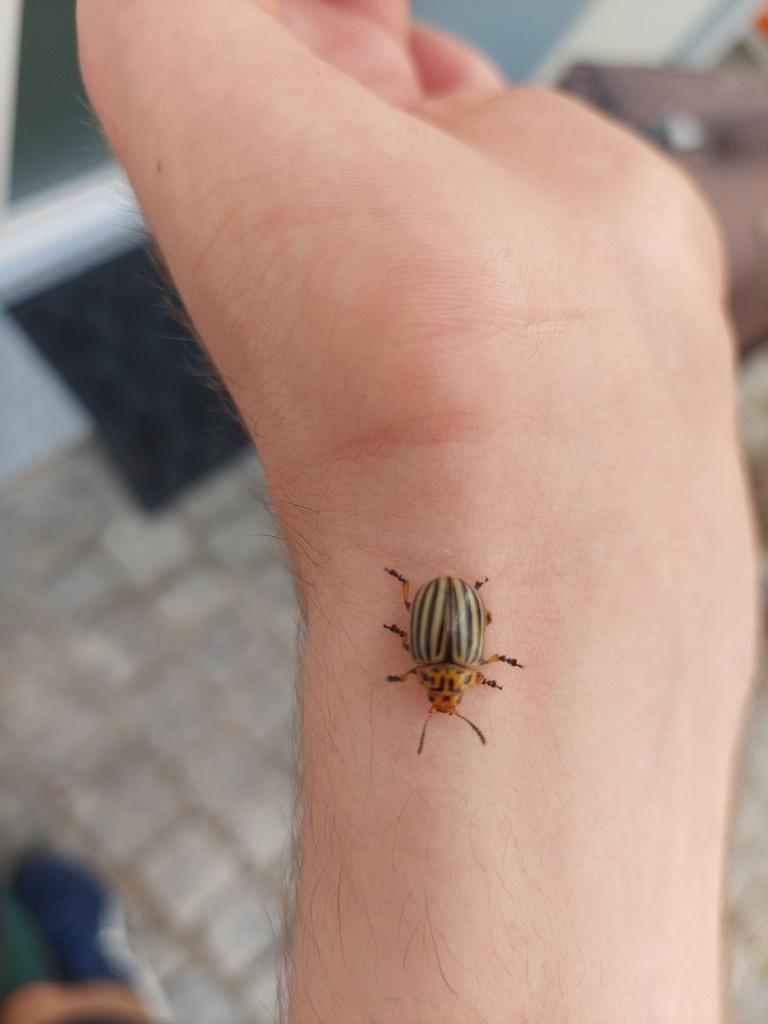potato_beetle: (330, 503, 550, 784)
